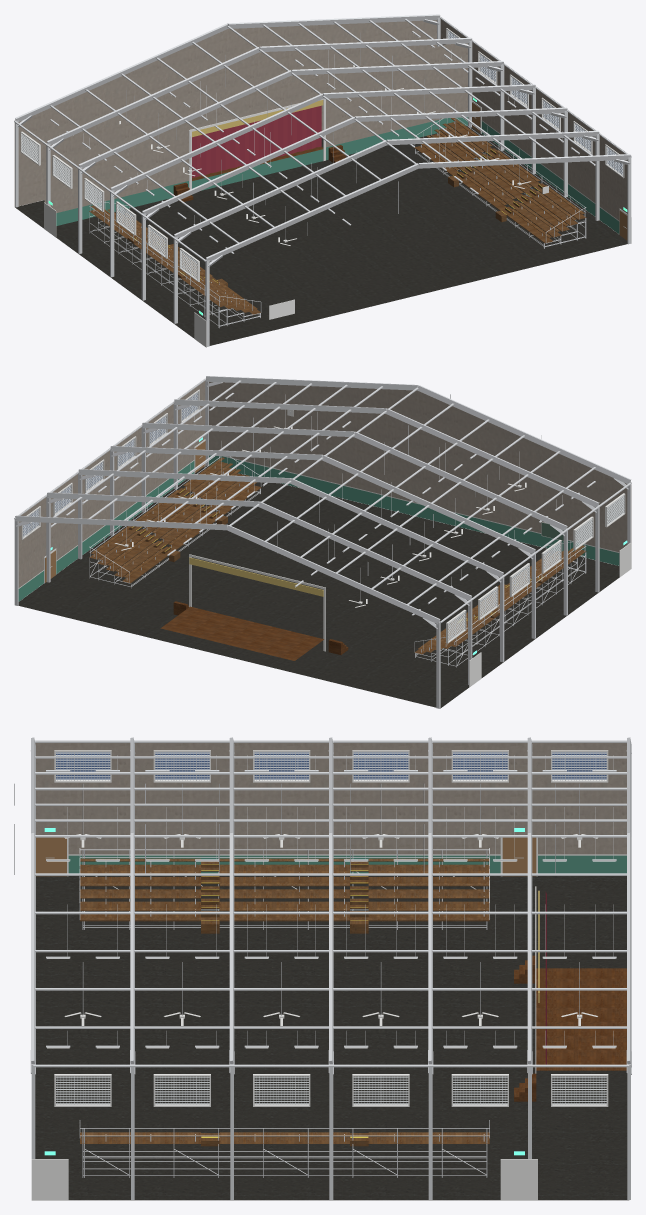
File: badminton_hall.glb
The picture shows the model from 3 angles, top to bottom: view 1: azimuth 30°, elevation 25°; view 2: azimuth 150°, elevation 25°; view 3: azimuth 270°, elevation 25°; orthographic projection. The views are drawn at different scales.
Visible parts, largest first — view 1: Floor.003, Plaster.003, Frame.003, Deck.004, Dado.003, Curtain.003, Trim.003, Plank.004, Louvre.003, Stage.003, Valance.003; view 2: Floor.003, Plaster.003, Frame.003, Deck.004, Dado.003, Stage.003, Trim.003, Plank.004, Louvre.003, Valance.003, Fan.003; view 3: Floor.003, Frame.003, Plaster.003, Deck.004, Louvre.003, Trim.003, Stage.003, Plank.004, Night.003, Dado.003, Door.003, Fan.003 (+1 smaller).
Boxes of the visible parts, <box> form: Floor.003: <box>15,126,627,345</box>; Plaster.003: <box>14,19,627,220</box>; Frame.003: <box>14,14,631,346</box>; Deck.004: <box>89,122,586,314</box>; Dado.003: <box>56,117,619,233</box>; Curtain.003: <box>192,105,321,177</box>; Trim.003: <box>20,28,631,347</box>; Plank.004: <box>91,118,584,309</box>; Louvre.003: <box>21,30,622,279</box>; Stage.003: <box>173,145,346,202</box>; Valance.003: <box>192,100,323,137</box>; Floor.003: <box>18,465,619,708</box>; Plaster.003: <box>18,381,631,587</box>; Frame.003: <box>14,376,631,708</box>; Deck.004: <box>89,461,586,654</box>; Dado.003: <box>18,455,619,601</box>; Stage.003: <box>160,601,348,660</box>; Trim.003: <box>18,389,631,687</box>; Plank.004: <box>91,457,584,649</box>; Louvre.003: <box>23,392,624,641</box>; Valance.003: <box>189,557,323,596</box>; Fan.003: <box>114,426,526,607</box>; Floor.003: <box>35,876,628,1200</box>; Frame.003: <box>14,737,631,1199</box>; Plaster.003: <box>35,743,626,854</box>; Deck.004: <box>80,861,489,1146</box>; Louvre.003: <box>56,752,606,1104</box>; Trim.003: <box>31,750,626,1200</box>; Stage.003: <box>514,955,626,1101</box>; Plank.004: <box>80,858,489,1135</box>; Night.003: <box>56,752,606,779</box>; Dado.003: <box>68,855,626,873</box>; Door.003: <box>36,837,536,876</box>; Fan.003: <box>64,834,597,1025</box>.
Size of the model in its own units: 41.38 by 12.21 by 33.19.
20 materials, 6 textured.
